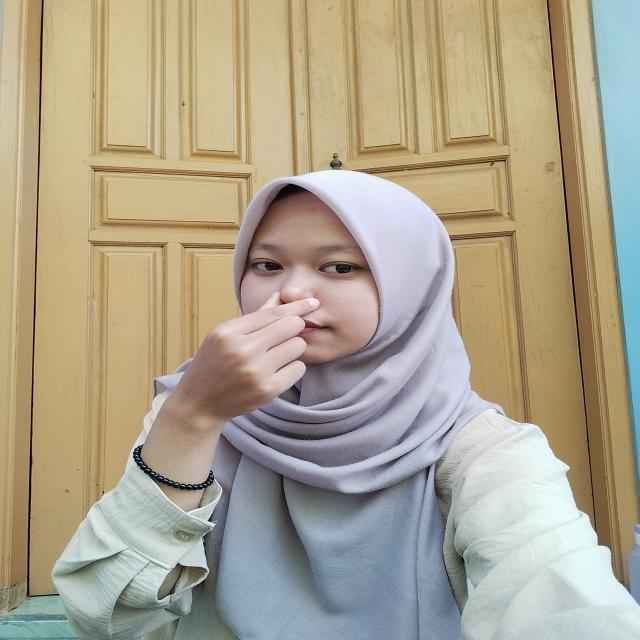bau: (175, 270, 347, 428)
